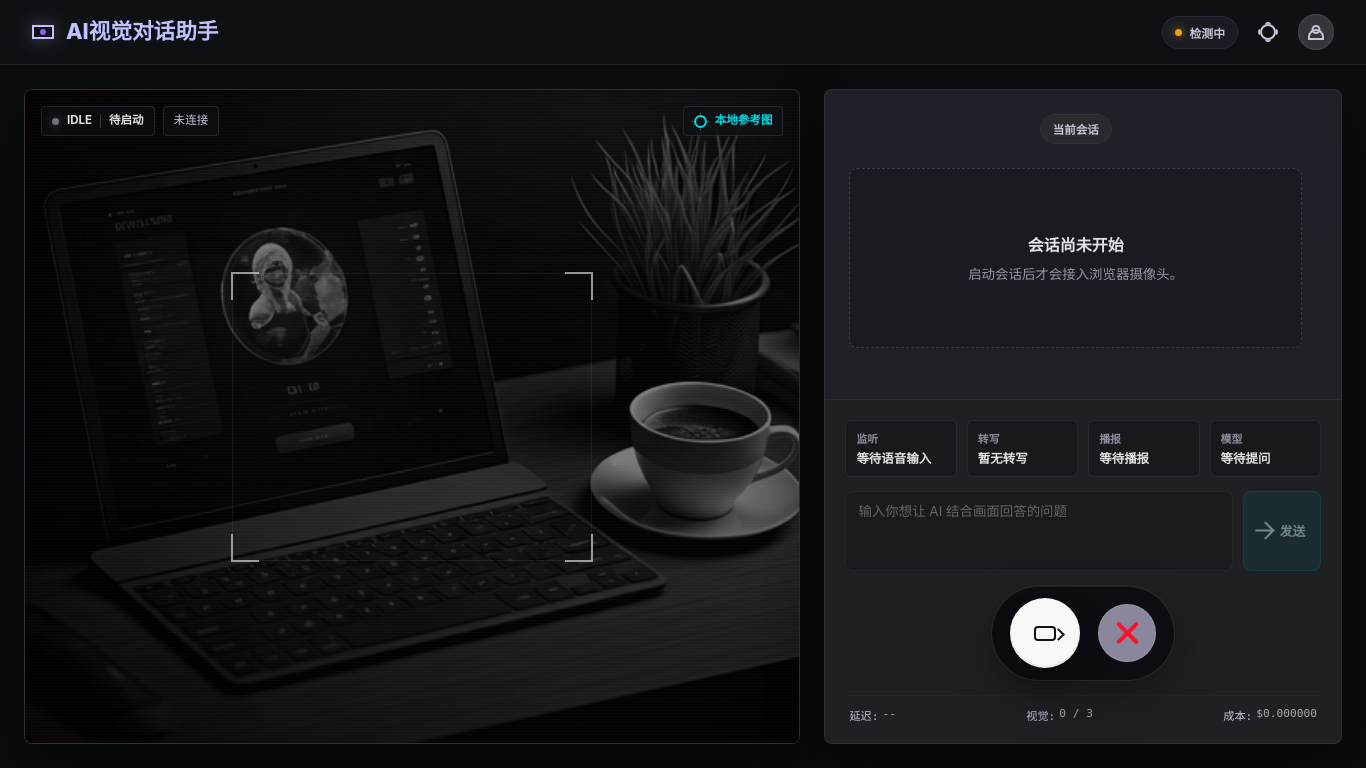
Test case: App › opens model settings and stores sanitized runtime config
The width and height of the screenshot is (1366, 768).
Click the button named "设置" at (1268, 32), box [1250, 14, 1286, 50]
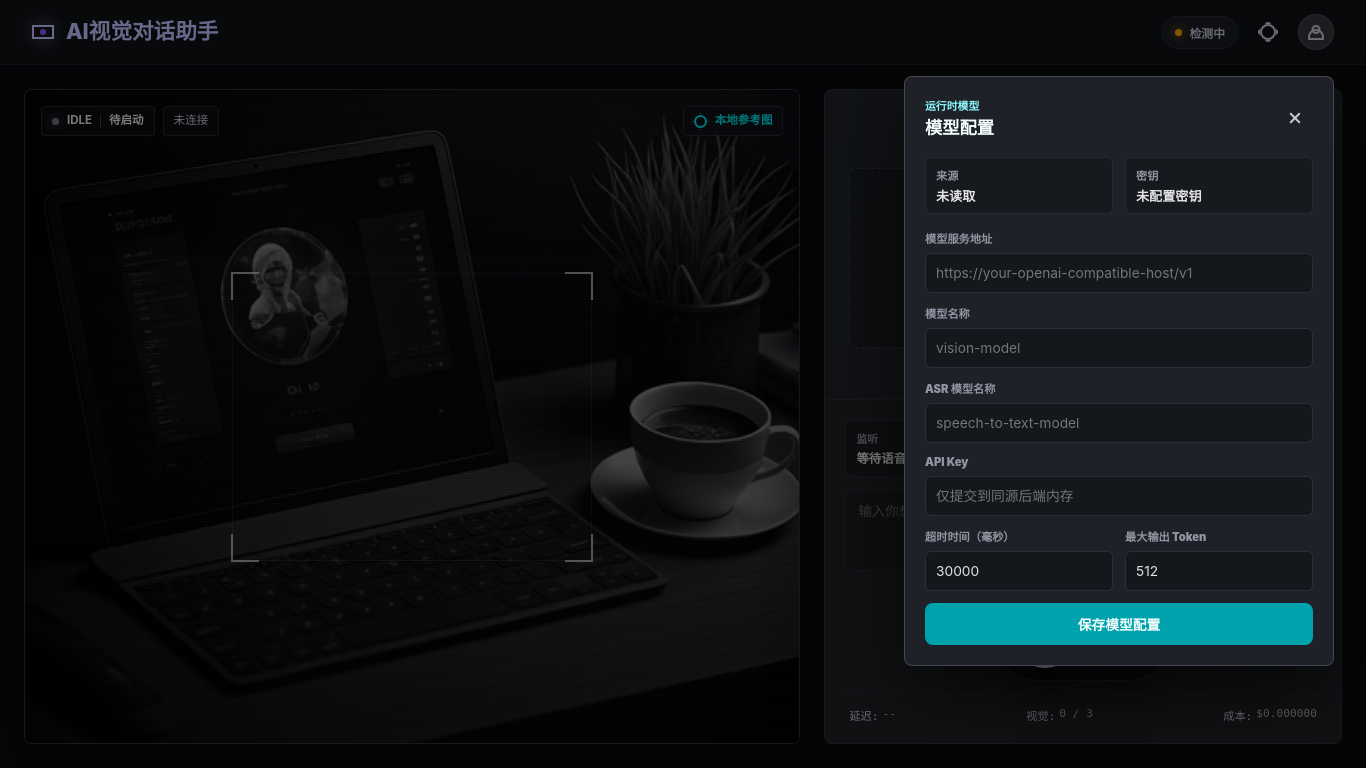
Type "https://runtime-model.example.test/v1" into the field labelled "模型服务地址" at (1119, 273), box [925, 253, 1313, 293]
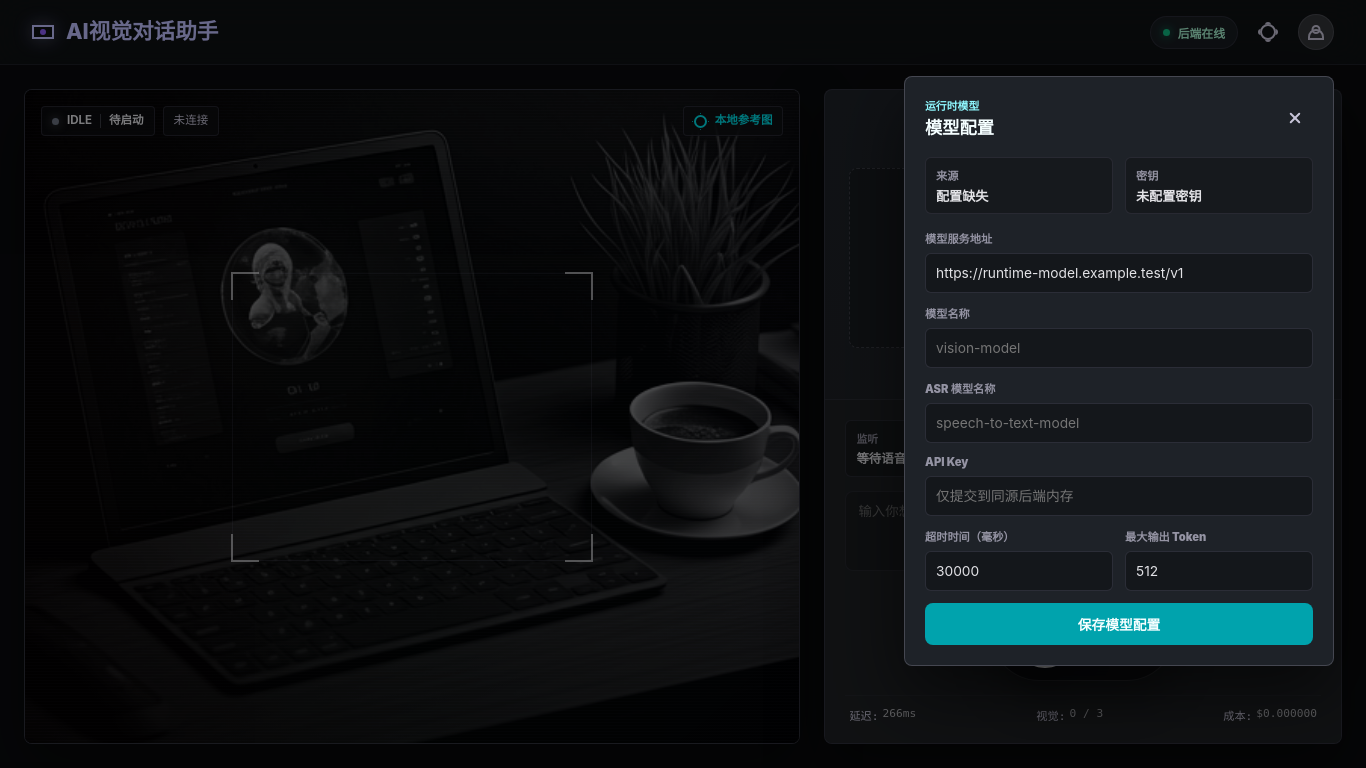
Type "runtime-vision-model" into the field labelled "模型名称" at (1119, 348), box [925, 328, 1313, 368]
Type "runtime-asr-model" into the field labelled "ASR 模型名称" at (1119, 423), box [925, 403, 1313, 443]
Type "runtime-secret" into the password field labelled "API Key" at (1119, 496), box [925, 476, 1313, 516]
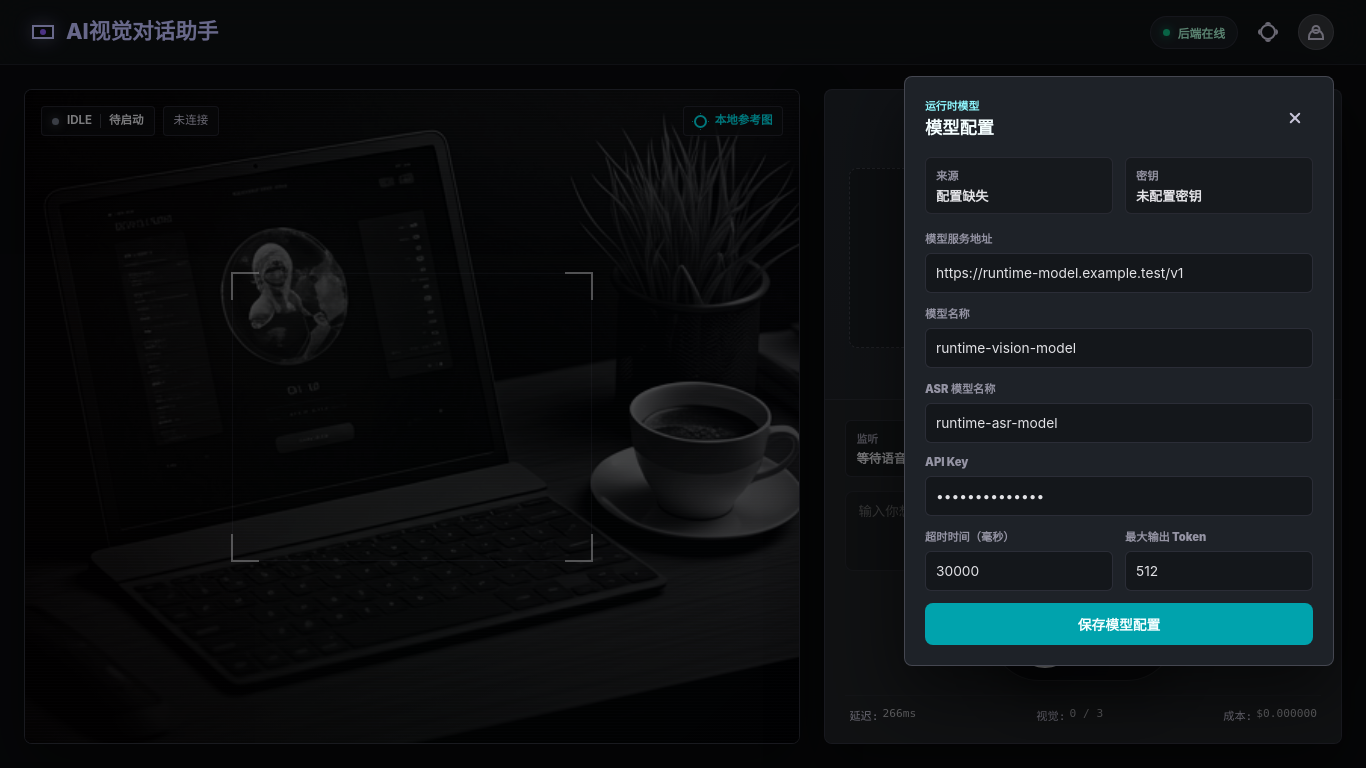
Replace the text in the number field labelled "超时时间（毫秒）" with "25000" at (1019, 571), box [925, 551, 1113, 591]
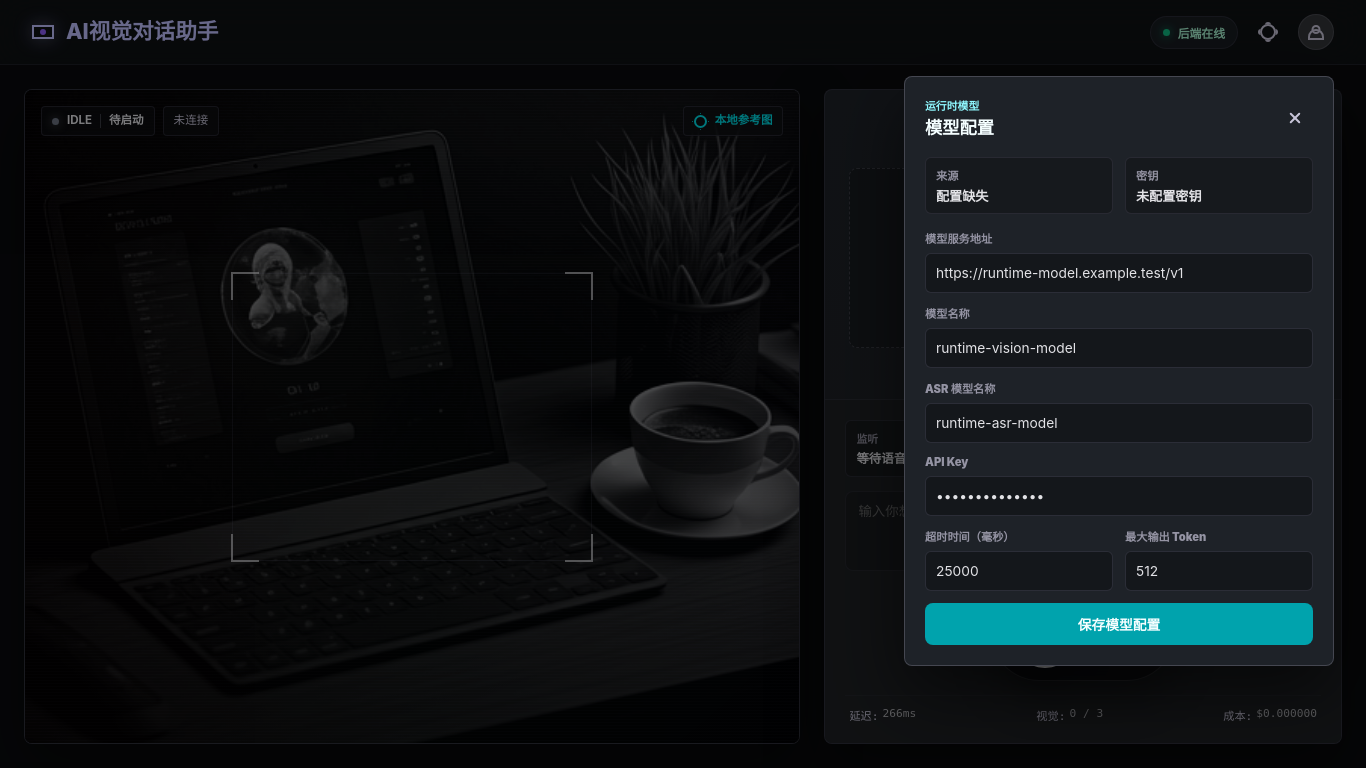
Replace the text in the number field labelled "最大输出 Token" with "640" at (1219, 571), box [1125, 551, 1313, 591]
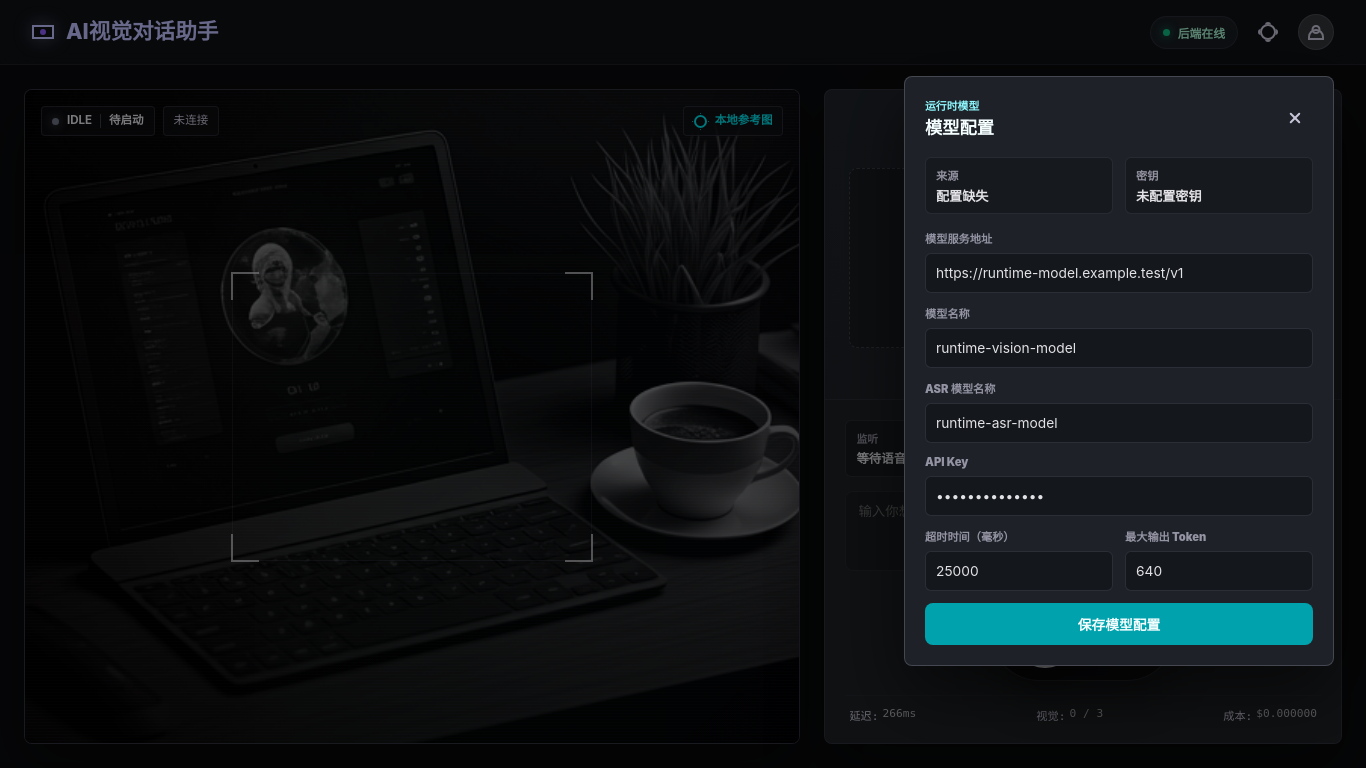
Click the button "保存模型配置" at (1119, 624), box [925, 603, 1313, 645]
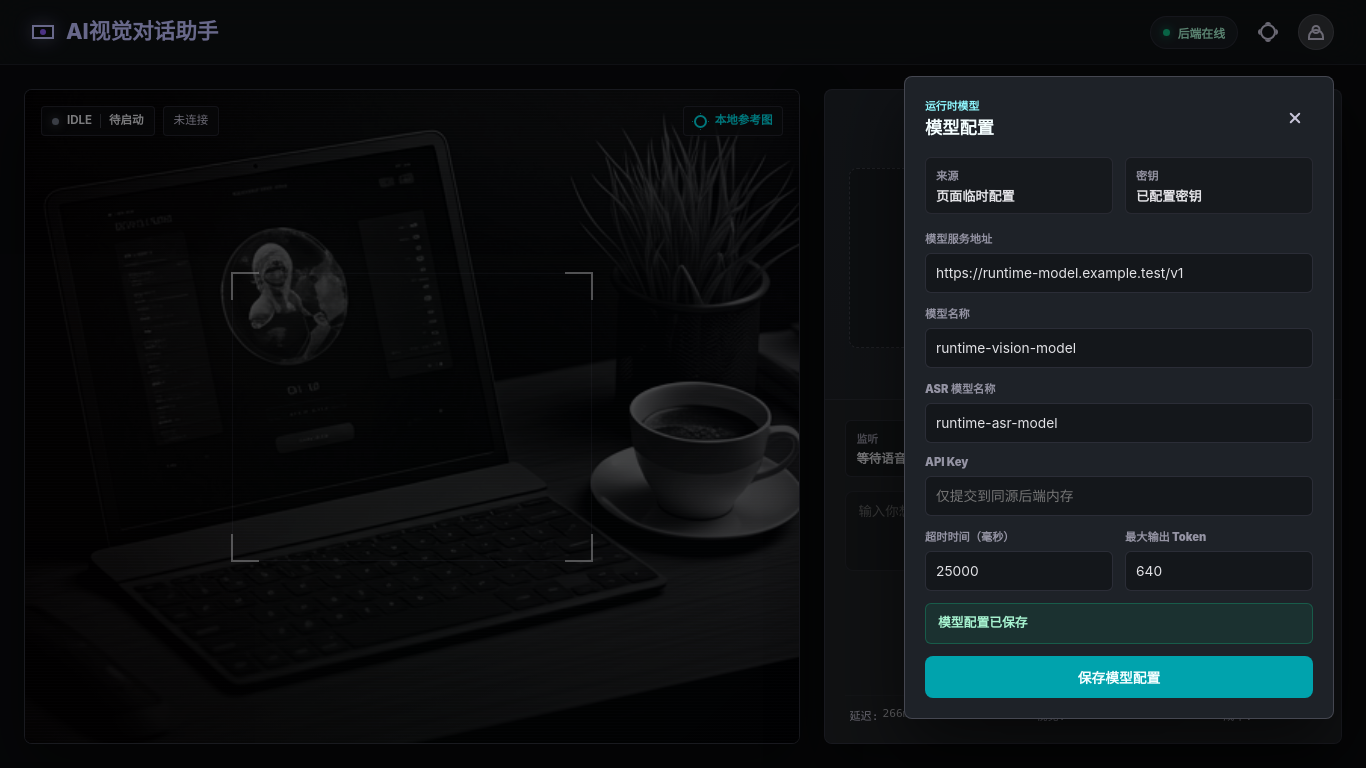
Result: the text "模型配置已保存" is shown at [925, 603, 1313, 644]
Result: the password field labelled "API Key" is empty at [925, 476, 1313, 516]
Result: the text "已配置密钥" is shown at [1136, 188, 1202, 204]
